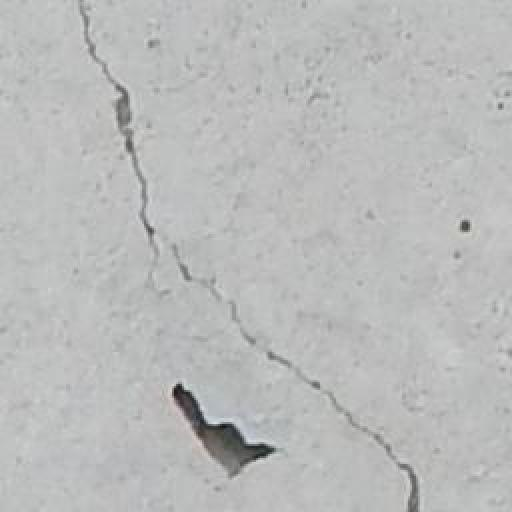spalling: (70, 0, 443, 509)
